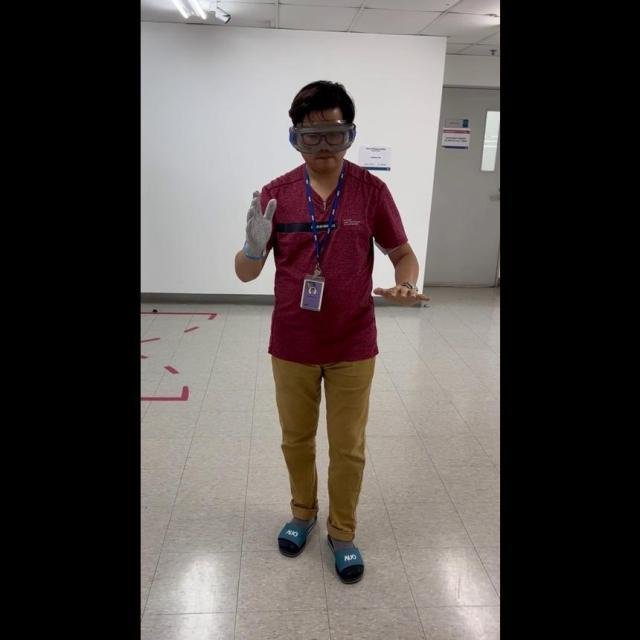bare_hand: (369, 276, 432, 307)
gloved_hand: (239, 188, 277, 260)
